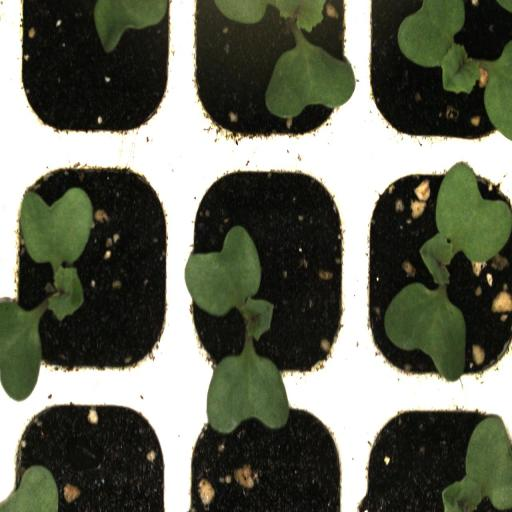Folha: (94, 0, 167, 51)
Germinacao: (181, 146, 355, 398), (1, 148, 179, 394), (355, 146, 512, 396), (182, 0, 354, 139), (357, 0, 512, 143)
